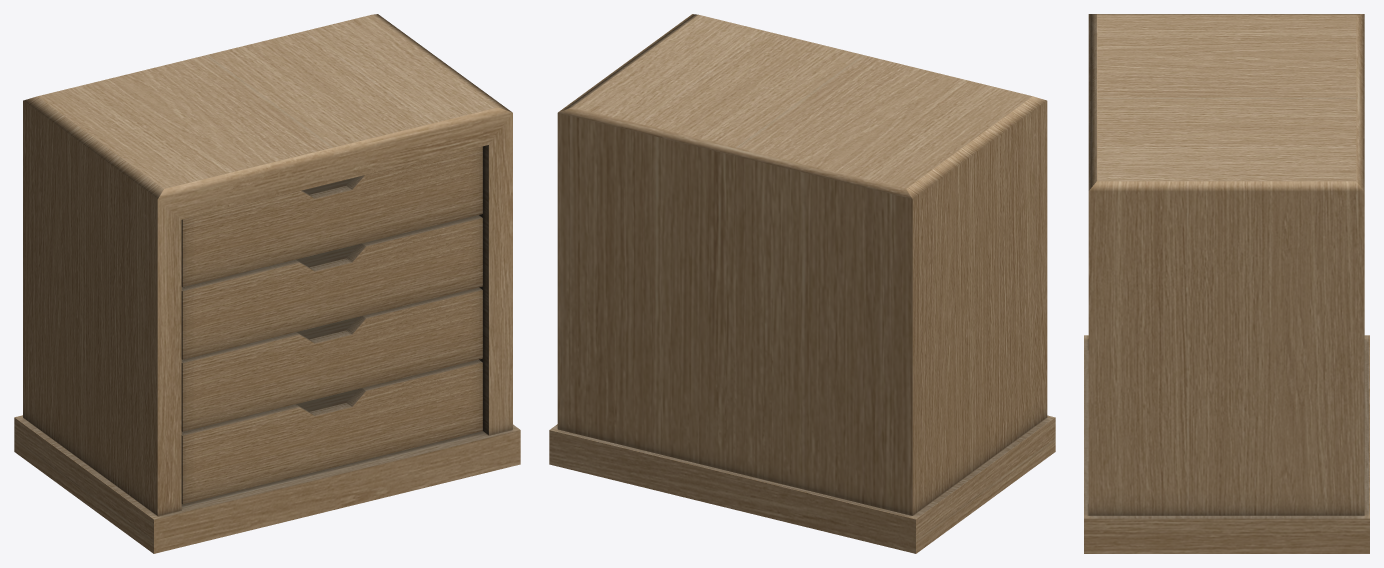
File: Sun_0104_Chest_of_drawers.fbx
The picture shows the model from 3 angles, left to right: view 1: azimuth 30°, elevation 25°; view 2: azimuth 150°, elevation 25°; view 3: azimuth 270°, elevation 25°; orthographic projection. The views are drawn at different scales.
Visible parts, largest first — view 1: Sun_0104_Chest_of_drawers; view 2: Sun_0104_Chest_of_drawers; view 3: Sun_0104_Chest_of_drawers.
Boxes of the visible parts, x1=… form: Sun_0104_Chest_of_drawers: x1=14, y1=14, x2=520, y2=553; Sun_0104_Chest_of_drawers: x1=549, y1=14, x2=1055, y2=553; Sun_0104_Chest_of_drawers: x1=1084, y1=14, x2=1369, y2=553.
Size of the model in its own units: 103 by 95.76 by 67.99.
